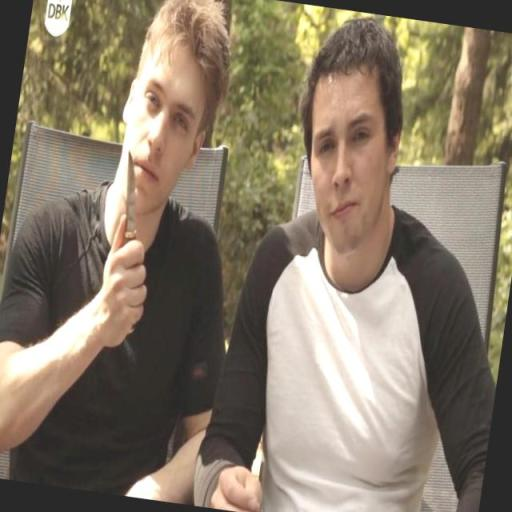knife: (104, 150, 158, 335)
